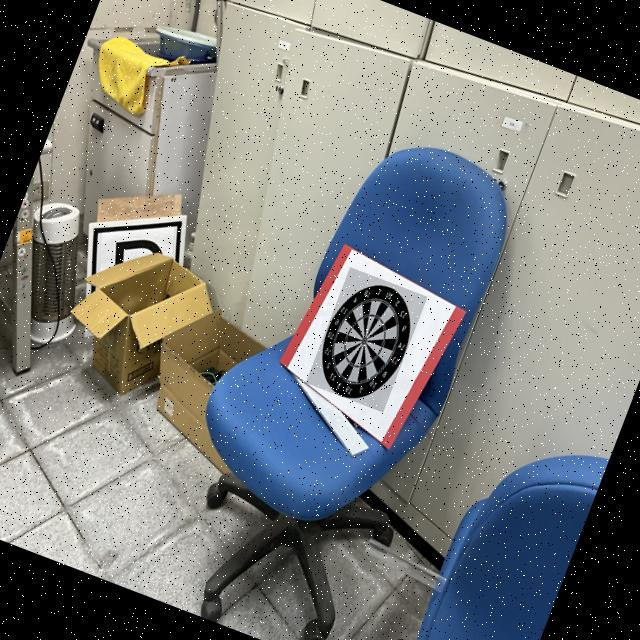archery-targets: (305, 267, 427, 413)
